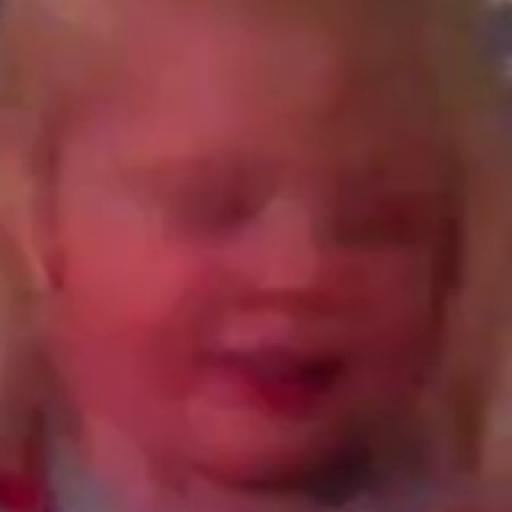Autism: (10, 5, 508, 512)
